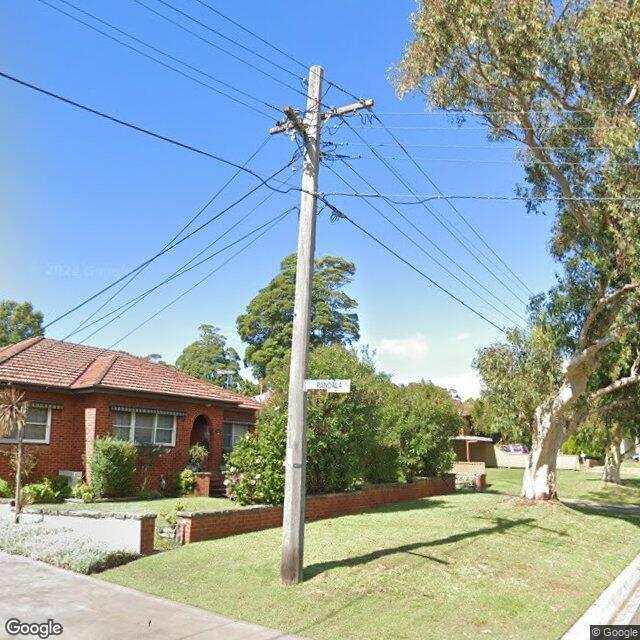crossarm: (269, 99, 374, 135), (283, 105, 309, 144)
timber-pole: (278, 63, 326, 584)
